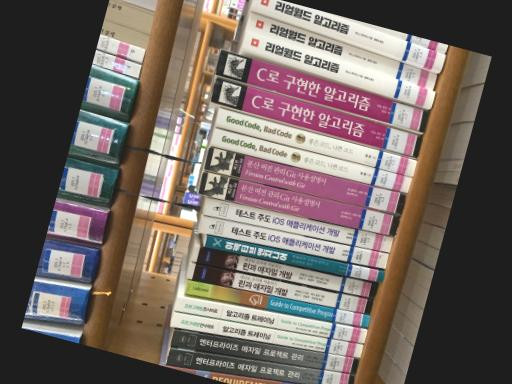book-spine: (215, 47, 430, 133), (210, 75, 423, 157), (246, 11, 438, 89), (241, 30, 435, 107), (215, 106, 416, 176), (203, 146, 406, 214), (251, 0, 445, 71), (198, 169, 400, 236), (210, 126, 412, 191), (203, 195, 393, 251), (199, 214, 388, 267), (186, 261, 373, 314), (191, 244, 378, 297), (174, 295, 366, 342), (169, 310, 363, 356), (184, 278, 369, 326), (205, 234, 385, 282), (170, 328, 359, 373), (165, 347, 355, 384), (159, 363, 305, 384)
